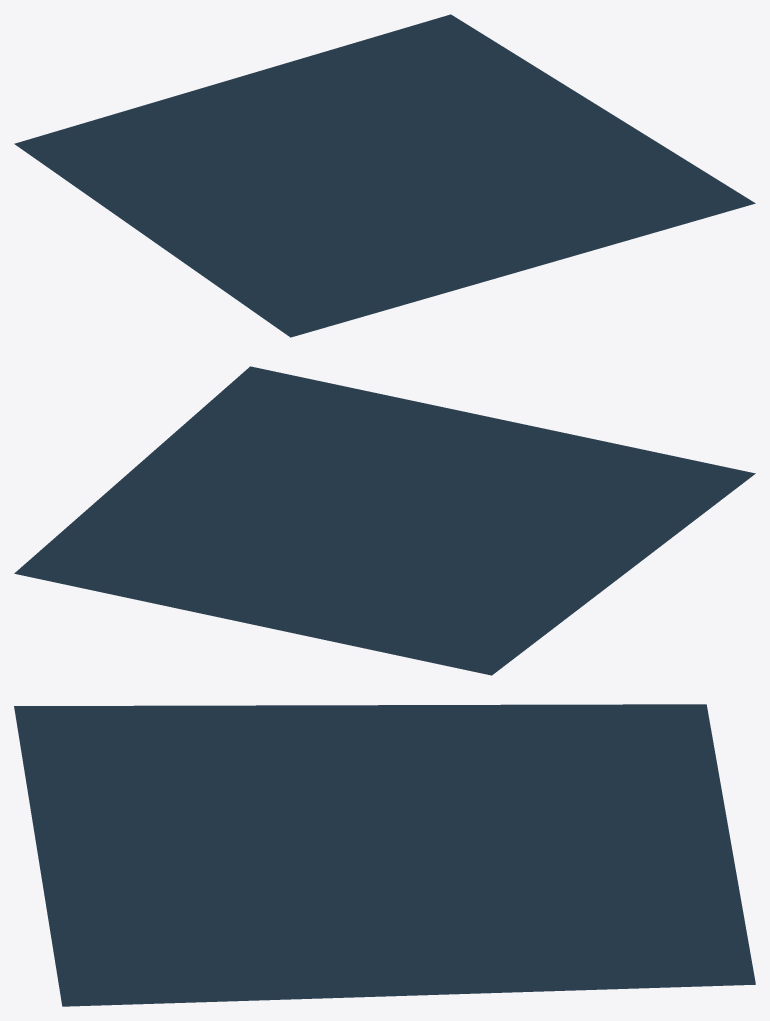
Rendered from water_plan.fbx.
3 views of the same model, one above another, from view 1: azimuth 30°, elevation 25°; view 2: azimuth 150°, elevation 25°; view 3: azimuth 270°, elevation 25° (orthographic). The views are drawn at different scales.
Visible parts, largest first — view 1: ZenWater.004; view 2: ZenWater.004; view 3: ZenWater.004.
Boxes of the visible parts, <box> form: ZenWater.004: <box>14,14,755,337</box>; ZenWater.004: <box>14,366,755,675</box>; ZenWater.004: <box>14,704,755,1006</box>.
Bounding box in the file's own units: 47824 × 386 × 48724.
